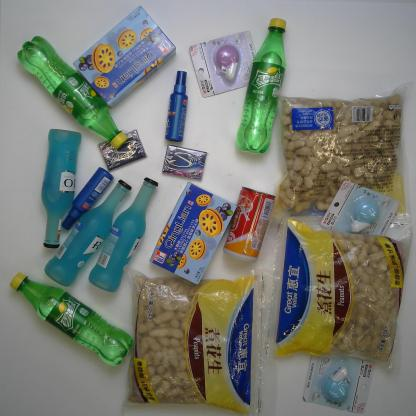Alcohol: (43, 178, 133, 288), (87, 175, 159, 295), (40, 121, 82, 250)
Canned Food: (221, 180, 276, 264)
Dessert: (71, 4, 179, 108), (147, 176, 240, 287)
Dried Food: (264, 215, 413, 369), (270, 83, 416, 230), (124, 264, 267, 413)
Drink: (15, 35, 129, 152), (7, 270, 135, 369), (235, 9, 289, 157)
Gum: (96, 128, 151, 172), (160, 144, 209, 182)
Personal Hygiene: (61, 158, 116, 235), (164, 67, 194, 144)
Stationery: (189, 30, 261, 100), (319, 178, 400, 238), (303, 353, 372, 413)
